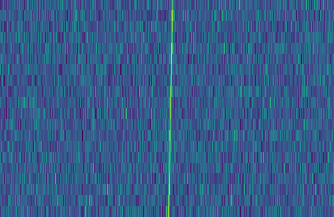signal: (163, 0, 176, 217)
